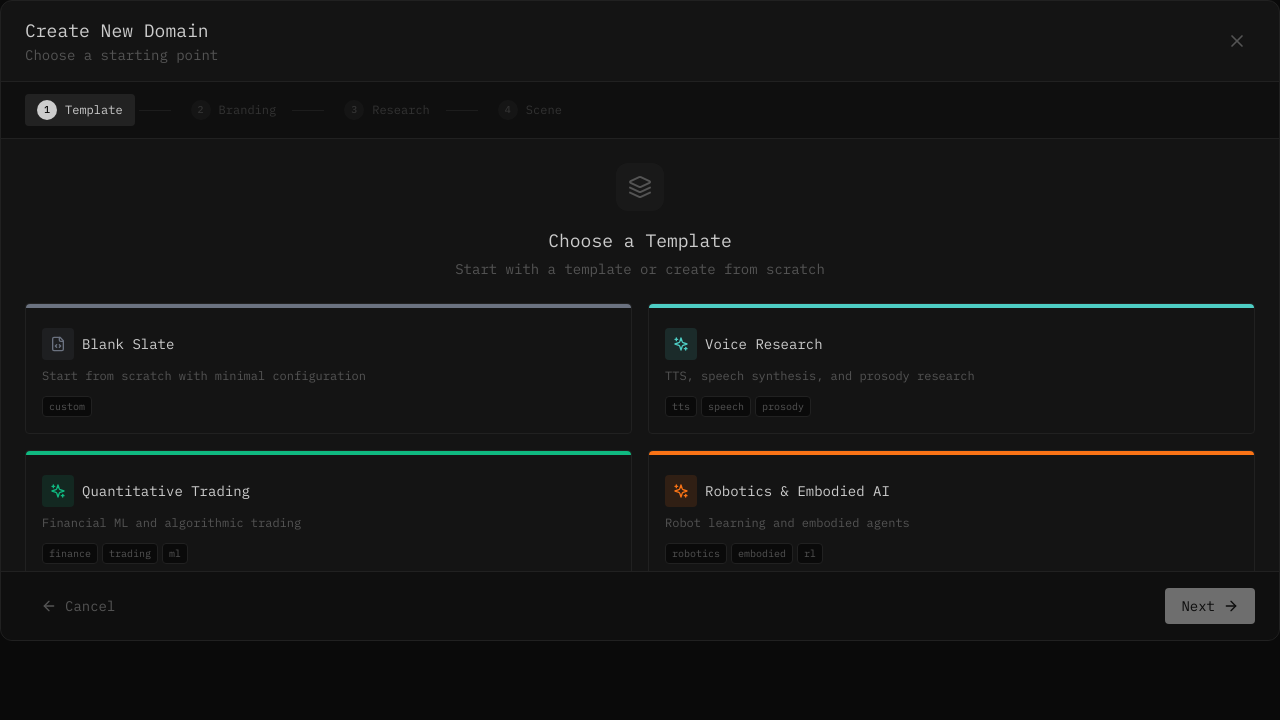
Test case: DomainWizard › navigation › advances to step 2 after clicking Next
The image size is (1280, 720).
# Select template and go next
Click the heading "Blank Slate".
click(128, 344)  # box [82, 334, 174, 354]
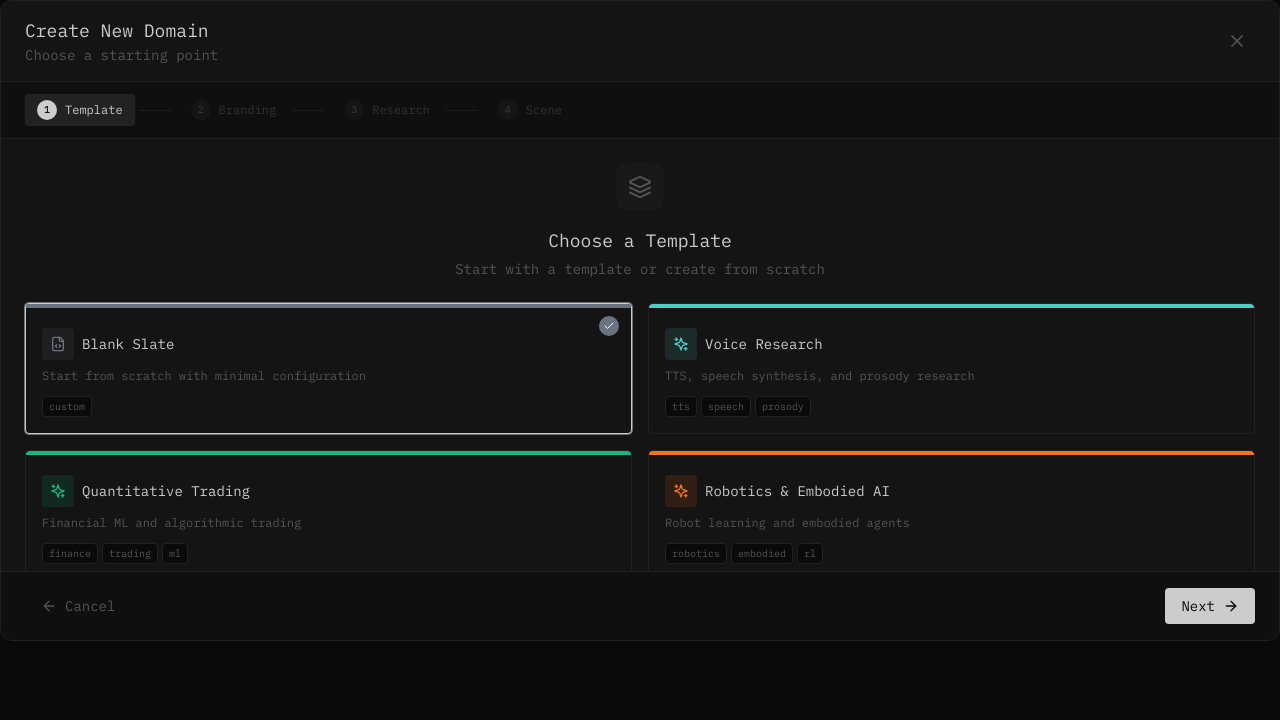
Click the button "Next".
click(1210, 606)  # box [1165, 588, 1255, 624]
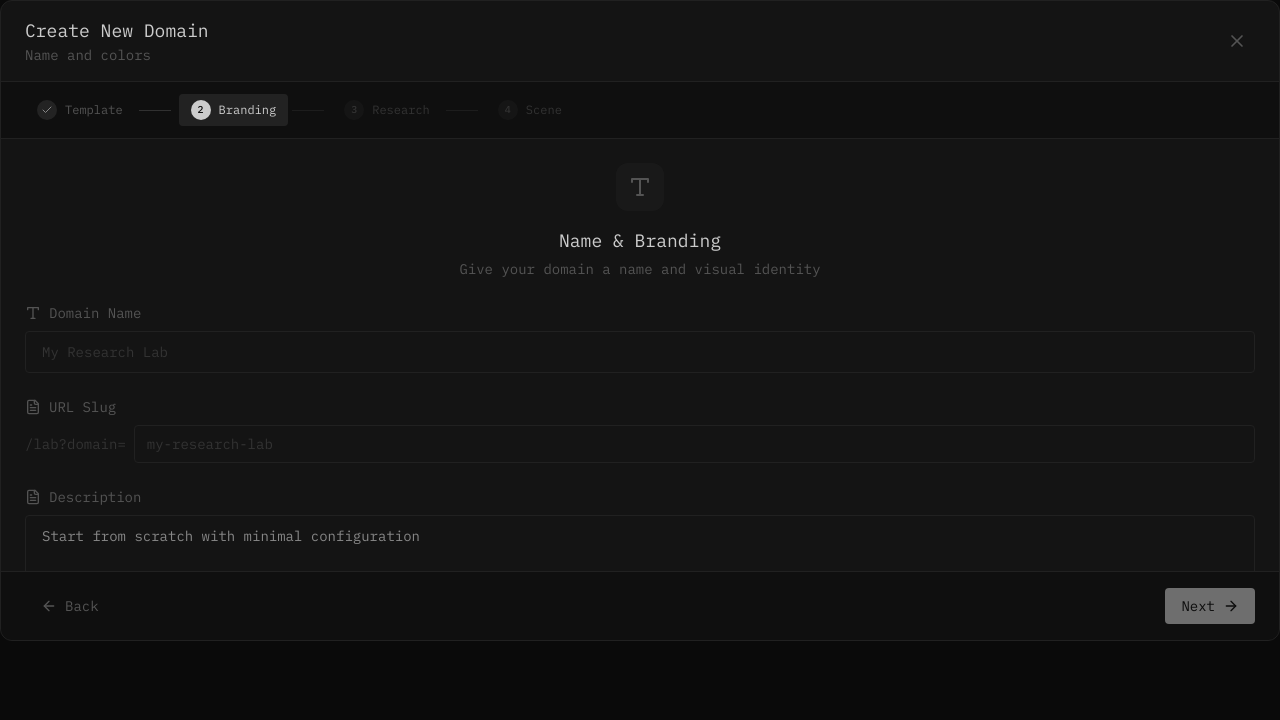
Expected: the heading "Name & Branding" is shown, [559, 229, 721, 252]
